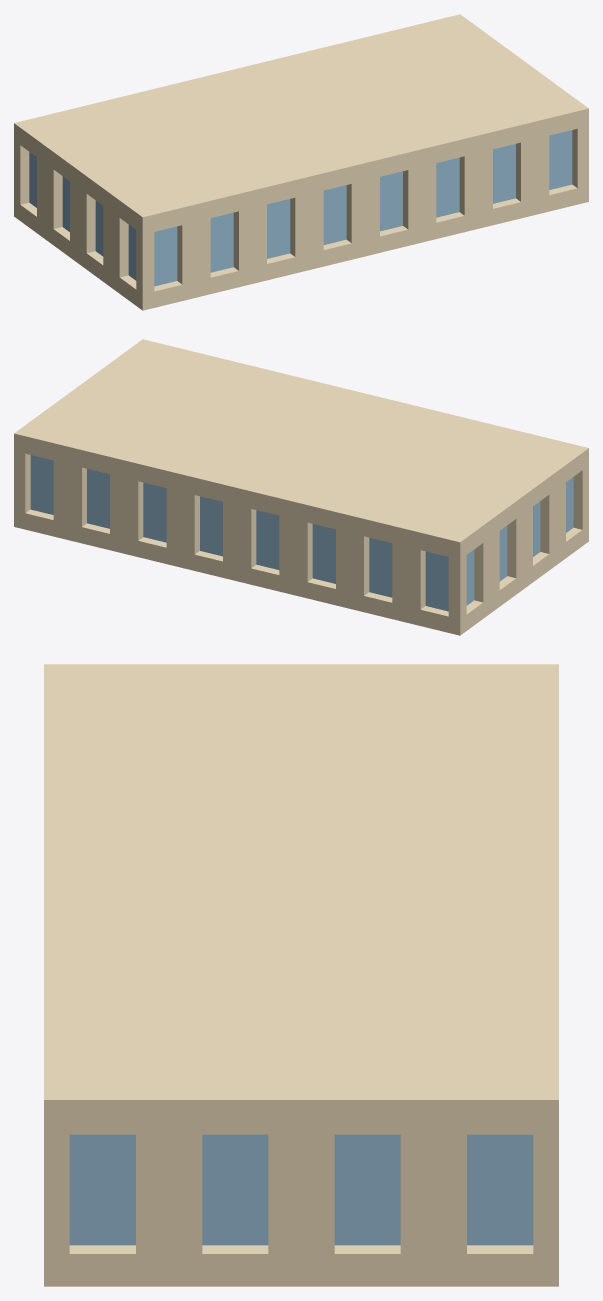
The model's file is building_bloc_floor.fbx.
3 views of the same model, one above another, from view 1: azimuth 30°, elevation 25°; view 2: azimuth 150°, elevation 25°; view 3: azimuth 270°, elevation 25° (orthographic). The views are drawn at different scales.
Parts seen in each view (by area): view 1: building_bloc; view 2: building_bloc; view 3: building_bloc.
Boxes of the visible parts, x1,y1,x2,y2 form: building_bloc: (14,14,588,310); building_bloc: (14,339,588,635); building_bloc: (44,664,558,1286).
Bounding box in the file's own units: 2000 × 400 × 1000.
1 material, 1 textured.
